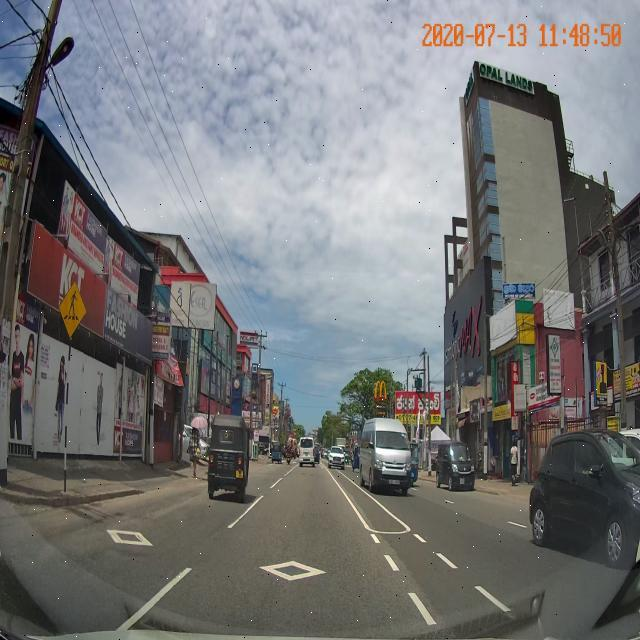diamond: (138, 520, 424, 605)
